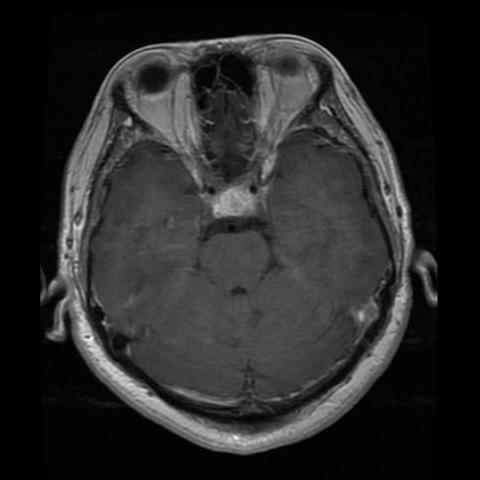Tumour-Pituitary: (194, 171, 277, 239)
